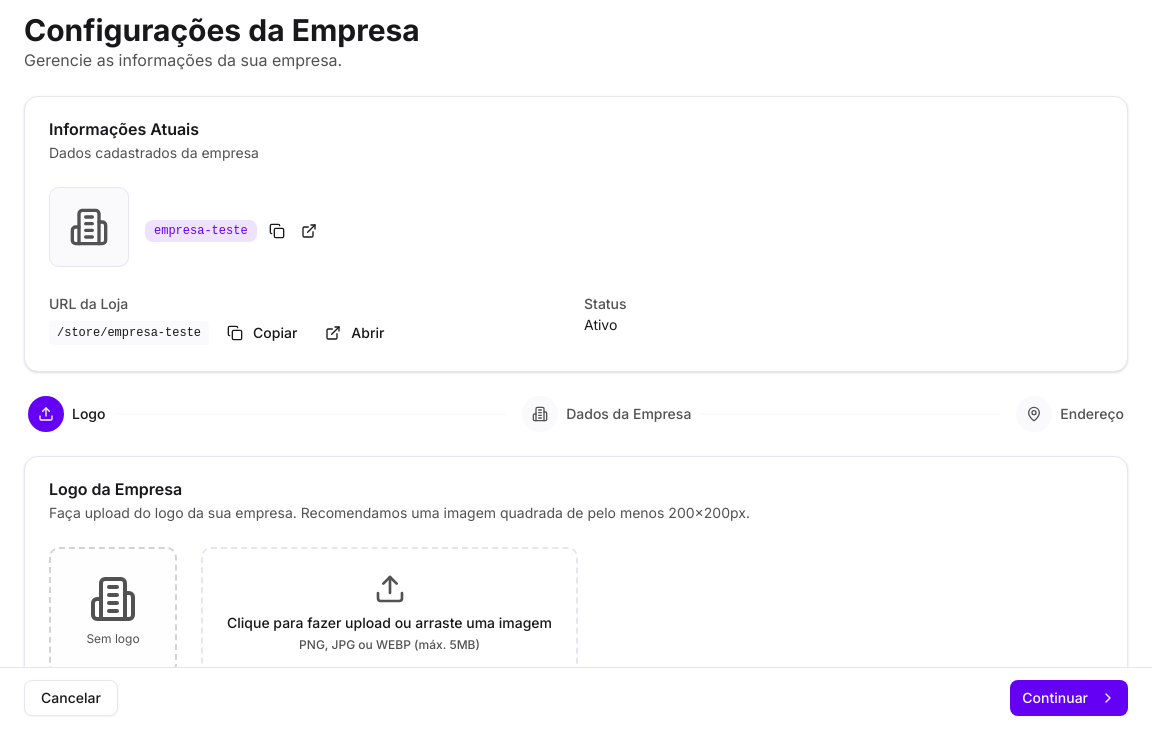
Test: CompanySettings - wizard de passos › advances to step 2 after backend validates step 1
This screenshot has width=1152, height=732.
Check: the text "Logo da Empresa" is shown, box [49, 479, 182, 499]
Click the button "Continuar" at {"x": 1069, "y": 698}, box [1010, 680, 1128, 716]
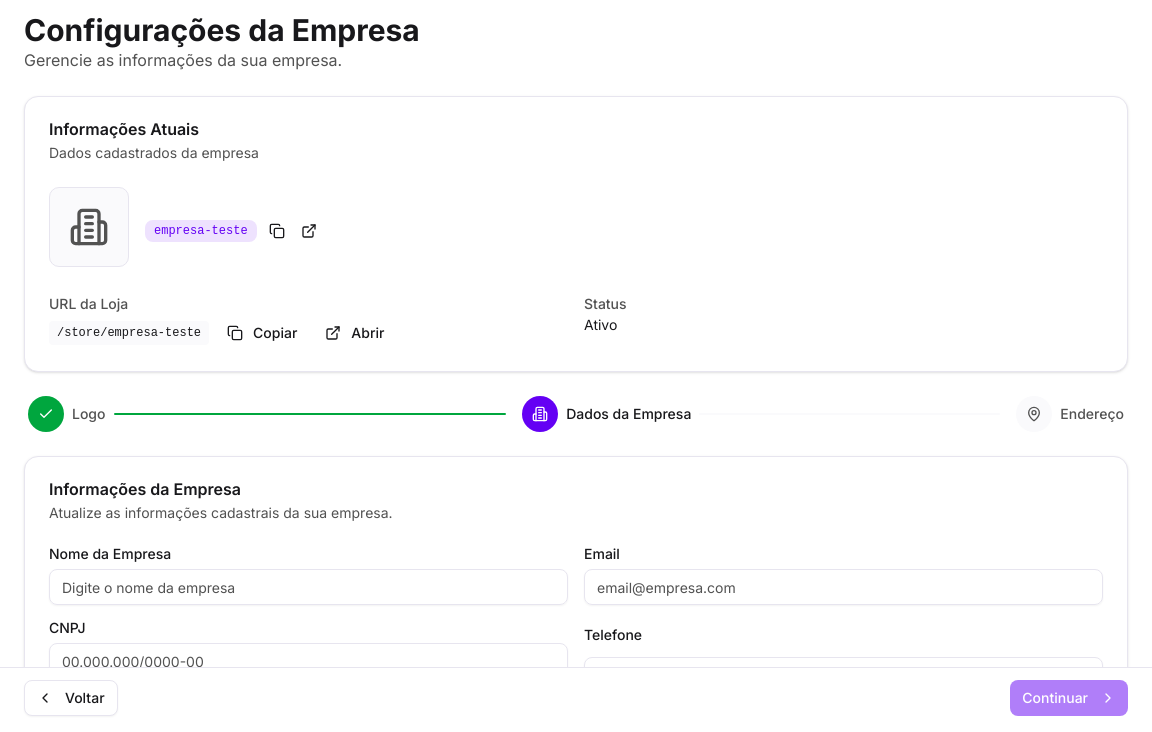
Check: the field labelled "Nome da Empresa" is shown, box [49, 569, 568, 605]
